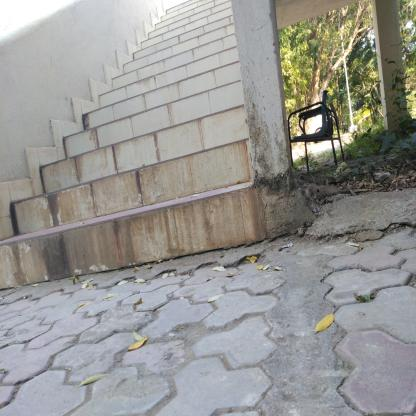stairs: (166, 8, 233, 283)
